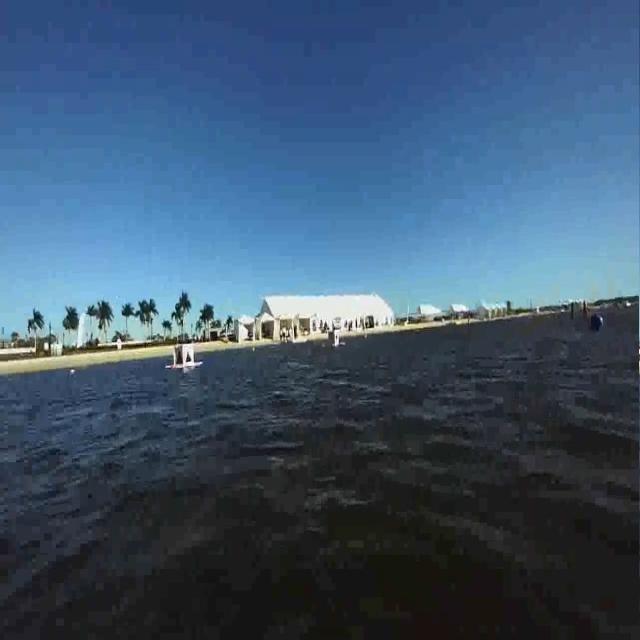blue-buoy: (591, 310, 604, 332)
